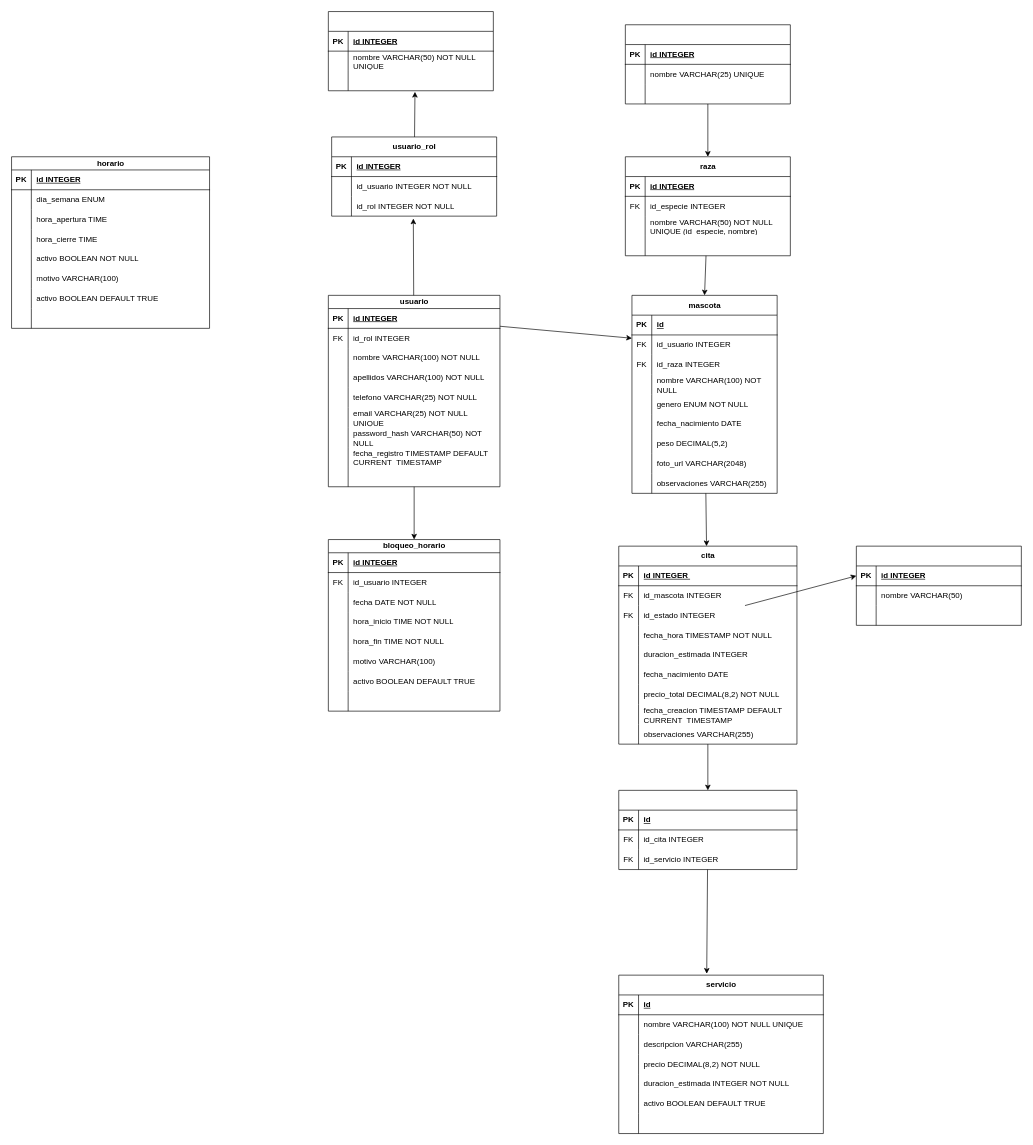
Some shapes in this 1033 by 1145 pixel diagram are drawn without their labels. Each missing label, with the box of its shape:
cita_servicio: (618, 790, 797, 870)
especie: (625, 24, 790, 104)
estado: (856, 545, 1021, 625)
rol: (328, 11, 493, 91)
